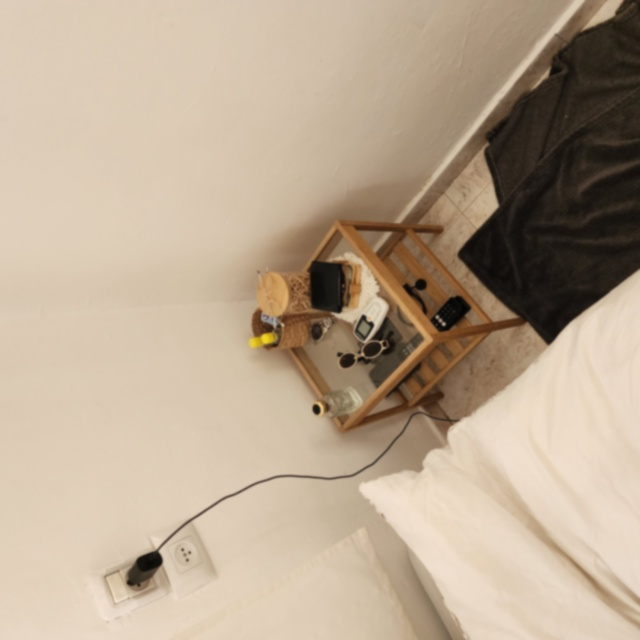glasses: (253, 265, 291, 330), (334, 337, 399, 371)
